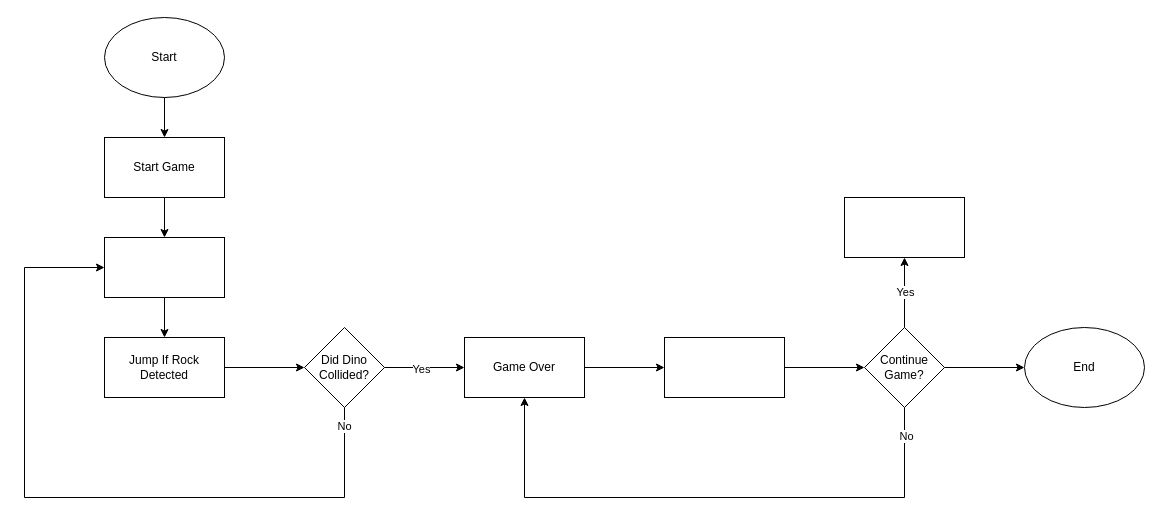
The diagram is 1162 pixels wide and 523 high, and some of its shapes have lost their labels. The shapes that lost their labels are listed below. From the top down, each one's centre as x and y in pixels, then its label:
At (x=904, y=227): "Refresh The Web".
At (x=164, y=267): "Play Game".
At (x=724, y=367): "Display Game Over and Score Message".
